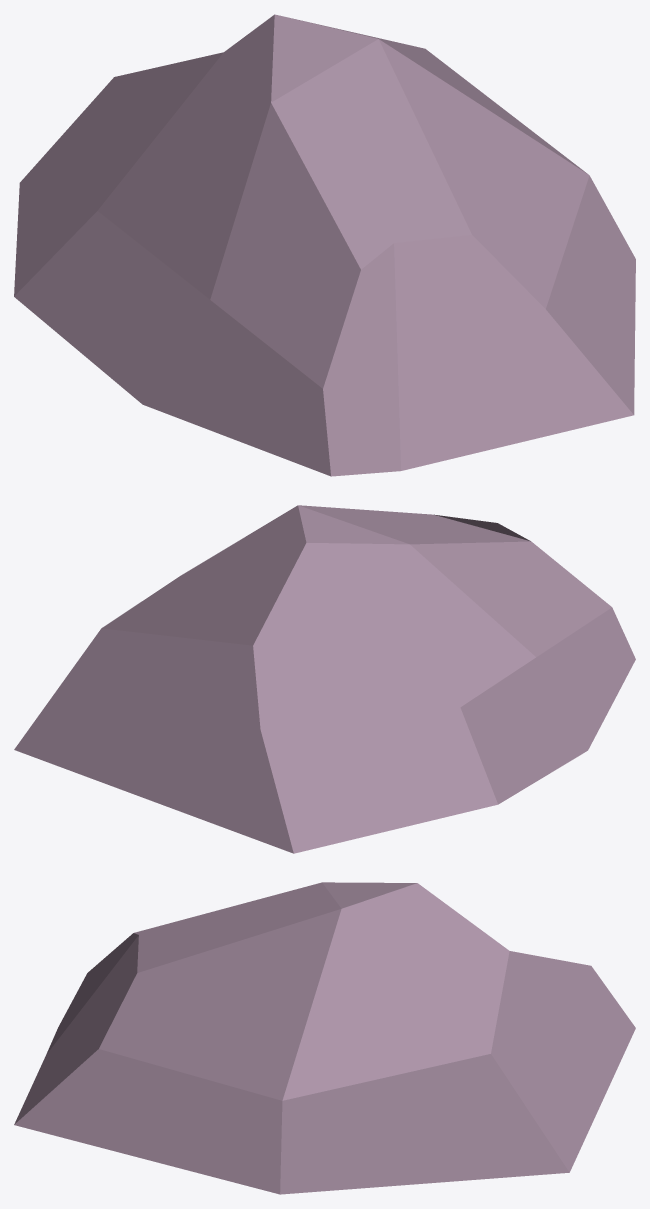
Rendered from Stone_1.fbx.
The picture shows the model from 3 angles, top to bottom: view 1: azimuth 30°, elevation 25°; view 2: azimuth 150°, elevation 25°; view 3: azimuth 270°, elevation 25°; orthographic projection. The views are drawn at different scales.
Parts seen in each view (by area): view 1: Cube; view 2: Cube; view 3: Cube.
Part boxes in pixels (<box>): Cube: <box>14,14,635,476</box>; Cube: <box>14,505,635,853</box>; Cube: <box>14,882,635,1194</box>.
Size of the model in its own units: 114 by 55.37 by 146.
